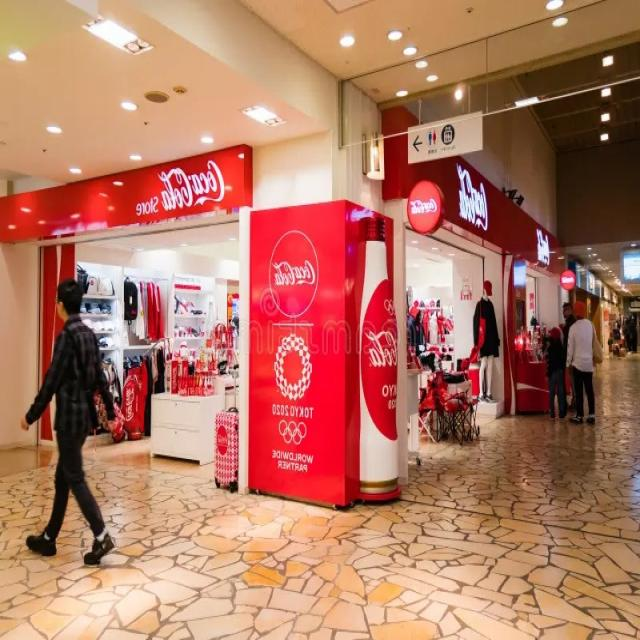coca cola: (148, 154, 234, 224), (258, 250, 318, 294), (407, 188, 440, 224)
